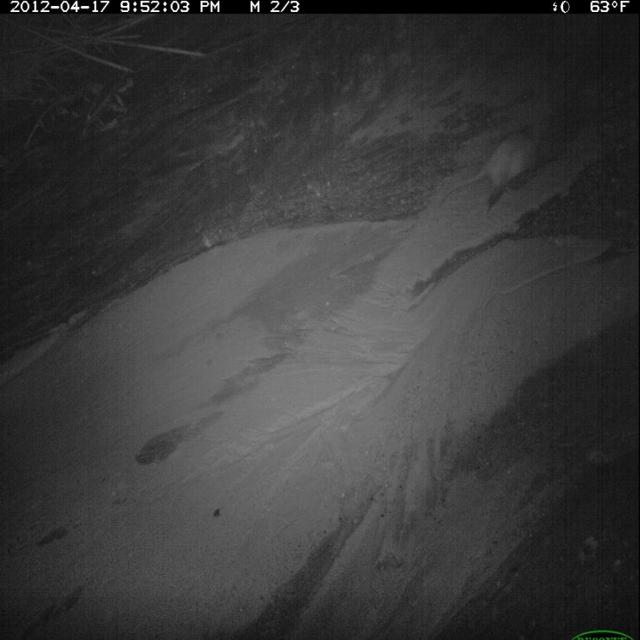opossum: (440, 117, 550, 224)
